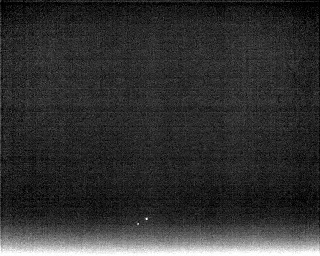BIRD: (135, 221, 141, 228)
